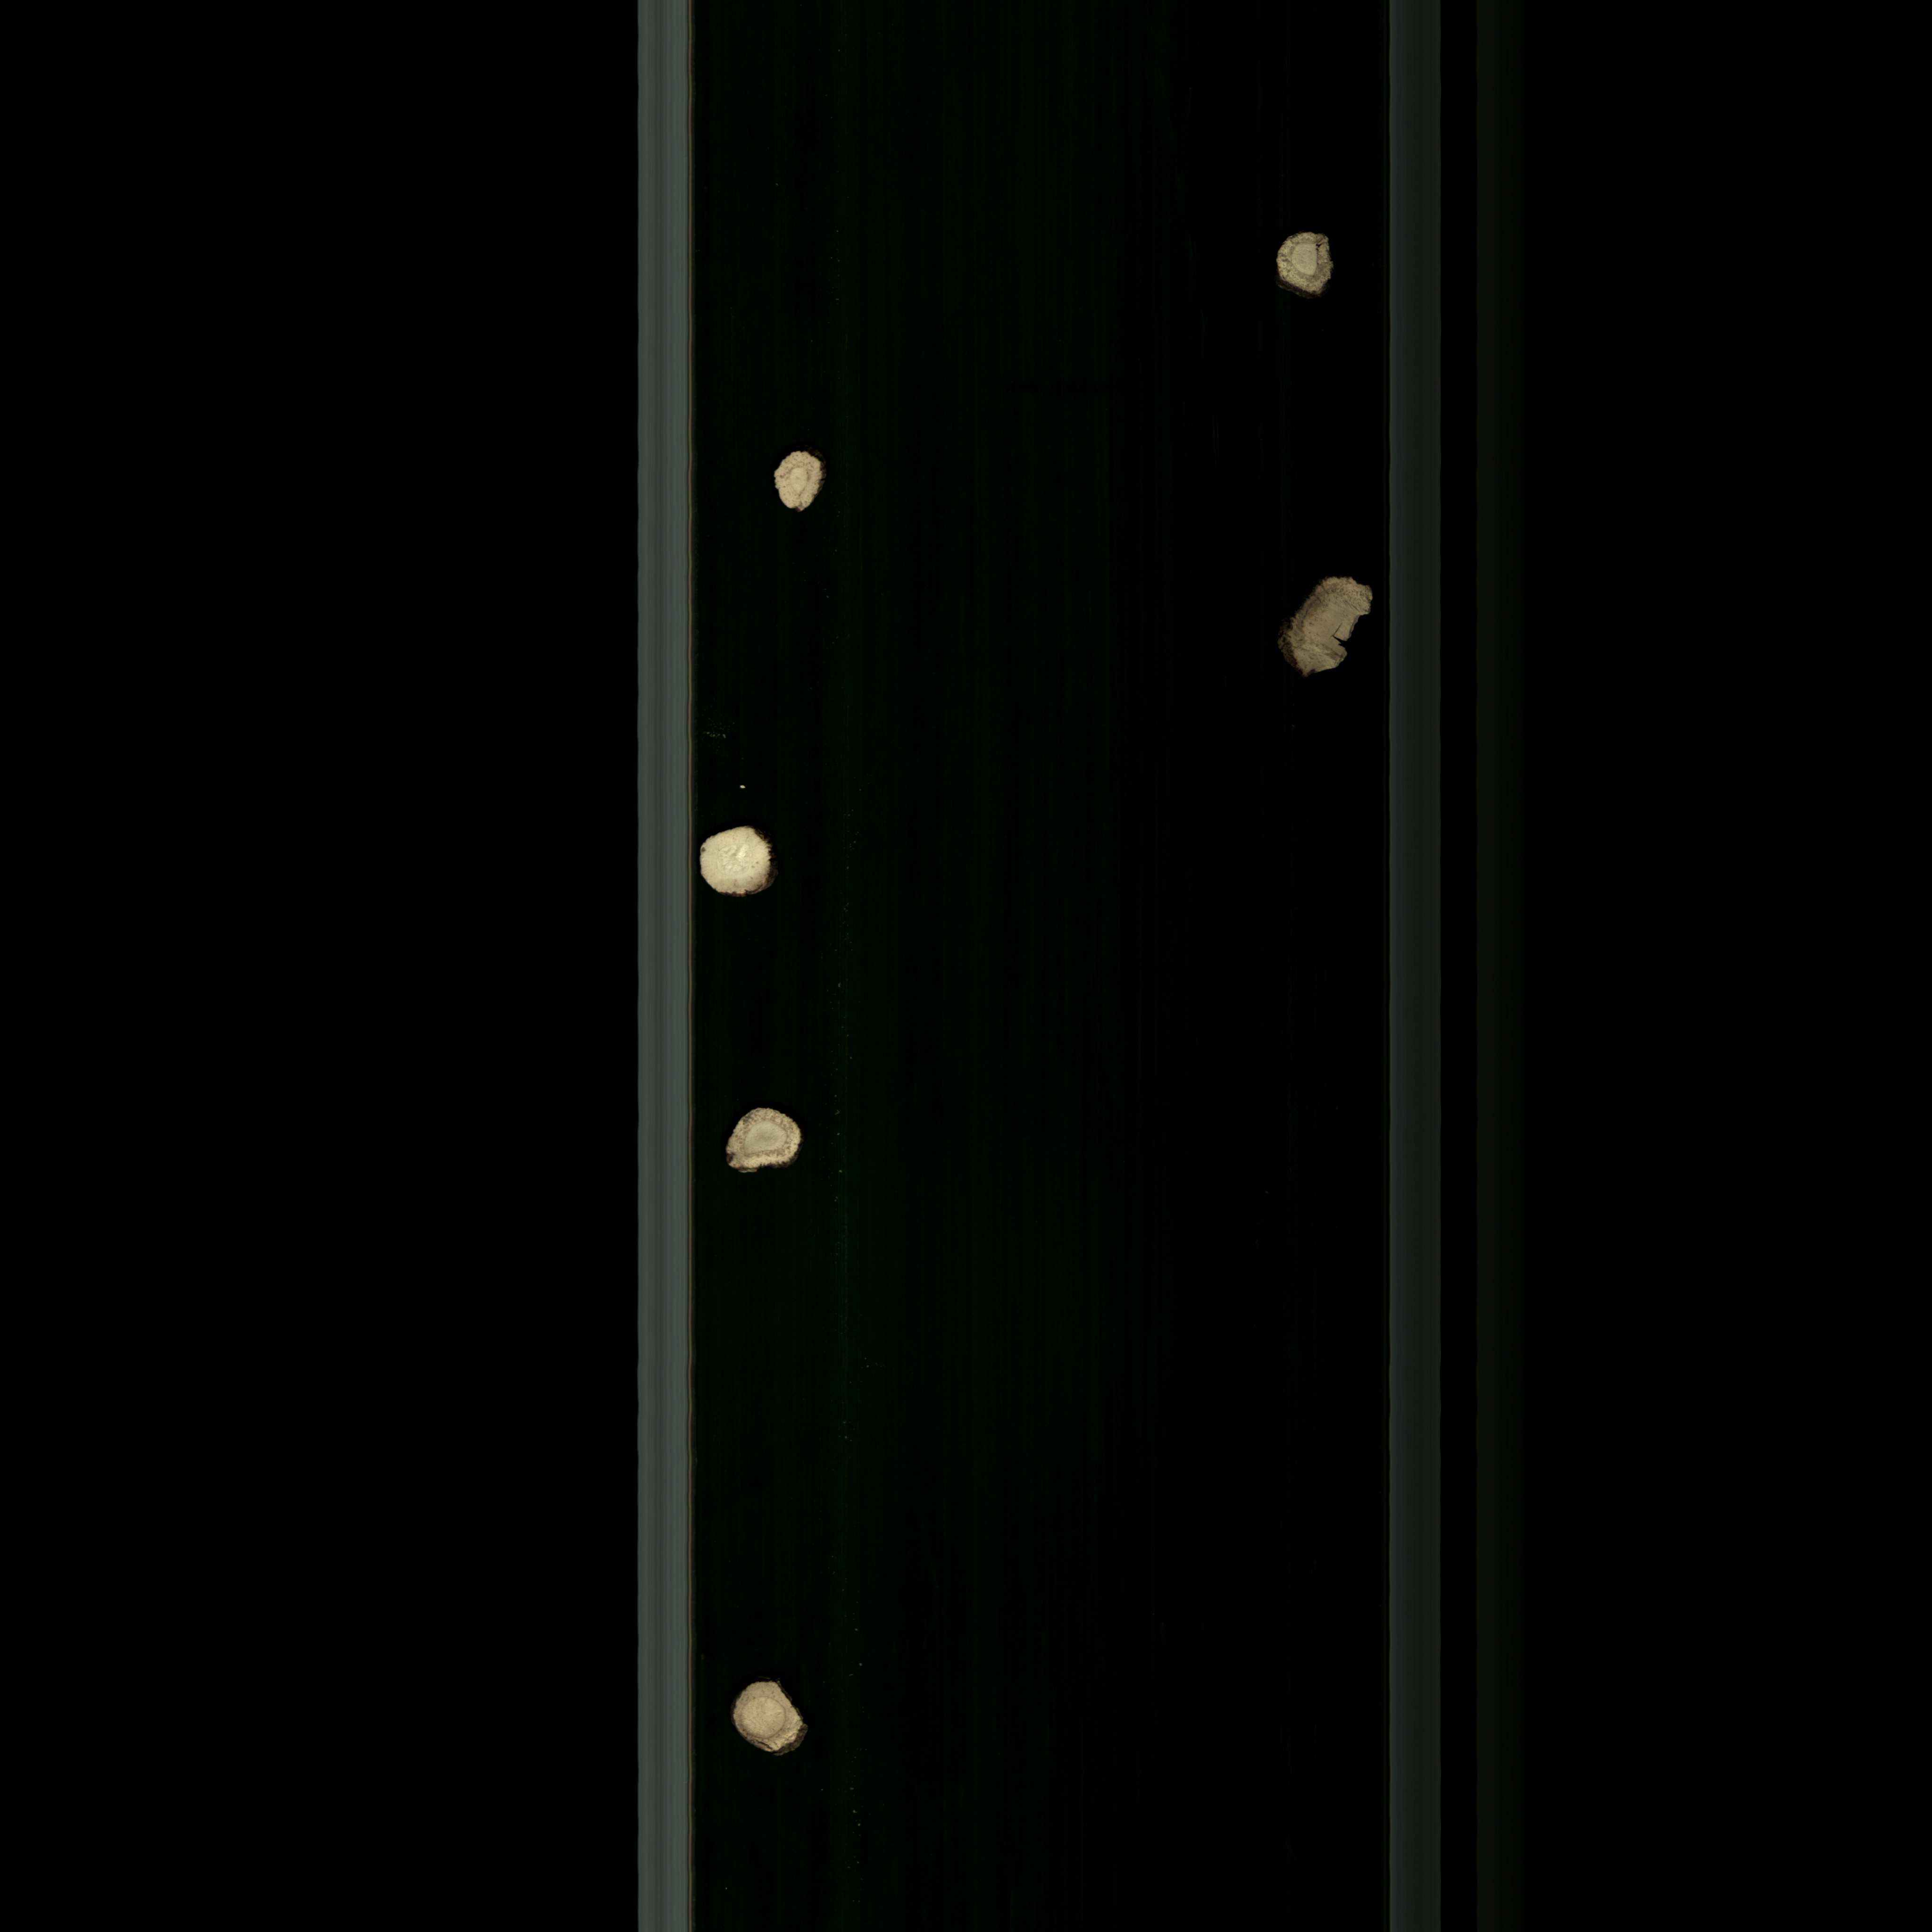debris: (718, 1674, 819, 1766)
distortion: (764, 446, 832, 520)
moldy: (1270, 568, 1384, 697), (720, 1099, 817, 1182), (1274, 225, 1338, 308)
